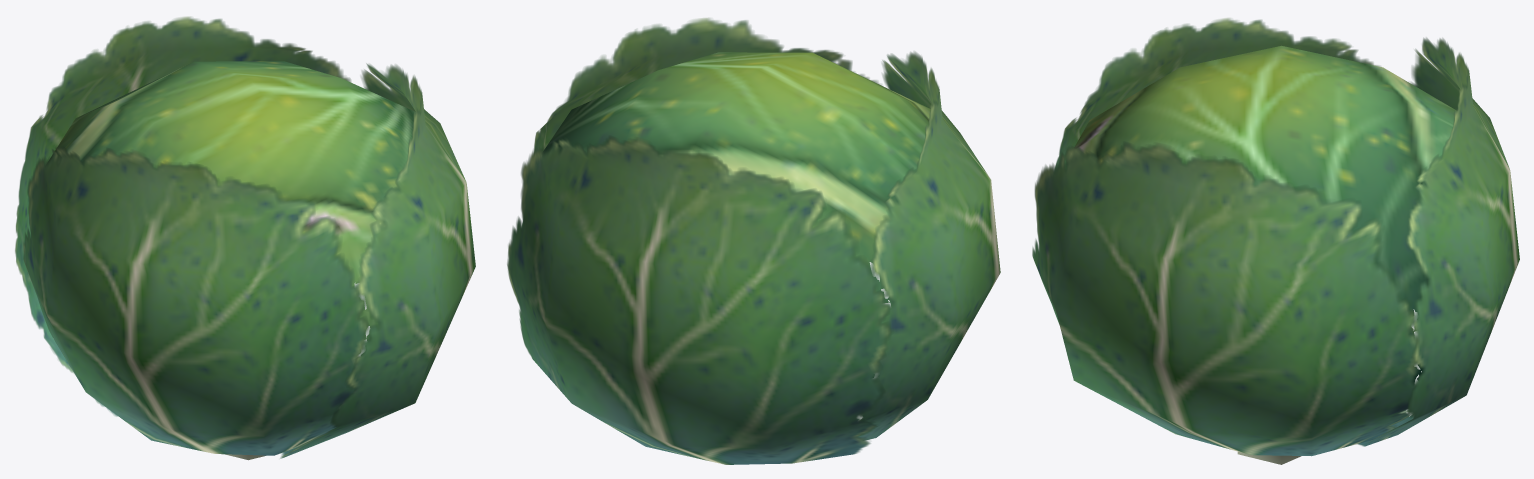
The model's file is plant_cabbage.gltf.
The picture shows the model from 3 angles, left to right: view 1: azimuth 30°, elevation 25°; view 2: azimuth 150°, elevation 25°; view 3: azimuth 270°, elevation 25°; orthographic projection. The views are drawn at different scales.
Parts seen in each view (by area): view 1: plant_cabbage; view 2: plant_cabbage; view 3: plant_cabbage.
Boxes of the visible parts, bbox=[...] form: plant_cabbage: bbox=[15, 16, 475, 460]; plant_cabbage: bbox=[507, 18, 1000, 464]; plant_cabbage: bbox=[1032, 18, 1519, 464].
Size of the model in its own units: 0.2822 by 0.2444 by 0.2903.
1 material, 1 textured.
